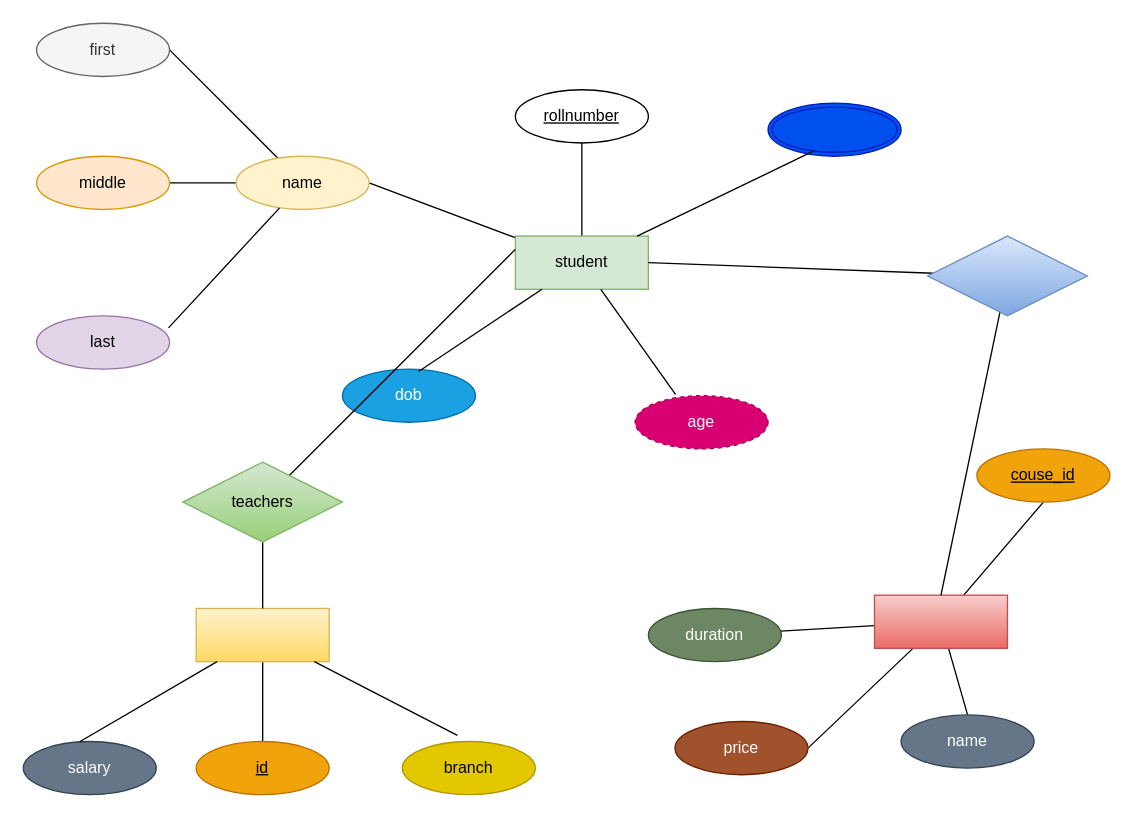
The diagram is 1133 pixels wide and 818 high, and some of its shapes have lost their labels. Here are the shapes that lost their labels. From the top down, the box of each, then its label:
(767, 102, 901, 156): email
(926, 235, 1087, 316): enrols into
(195, 607, 329, 662): faculty
(873, 594, 1007, 648): couses
